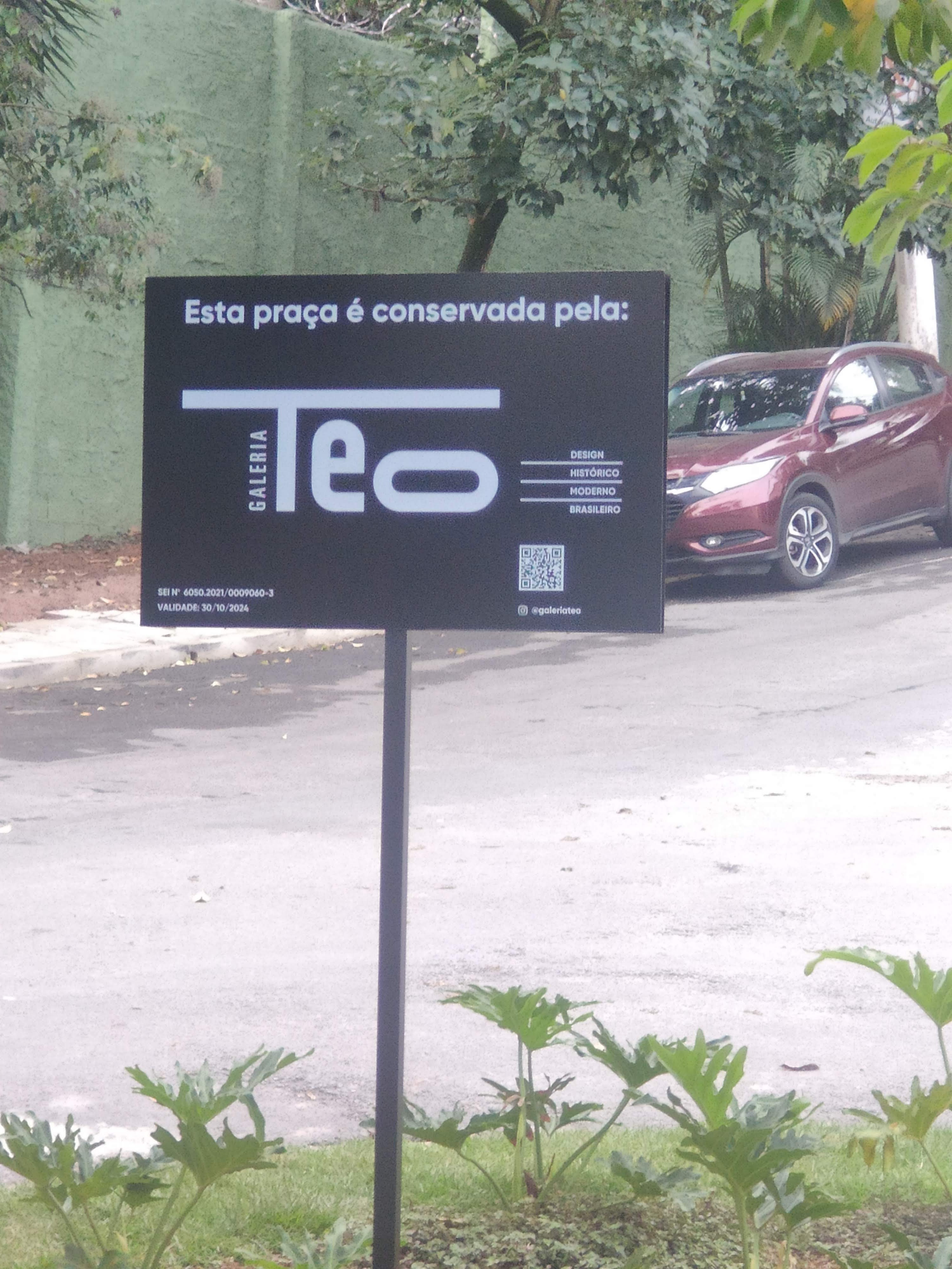QR-CODE: (521, 548, 561, 588)
